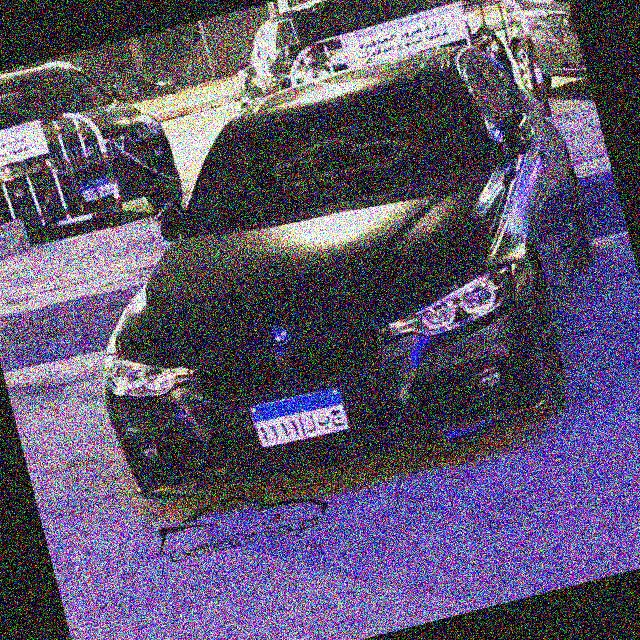License Plate: (244, 380, 355, 457)
